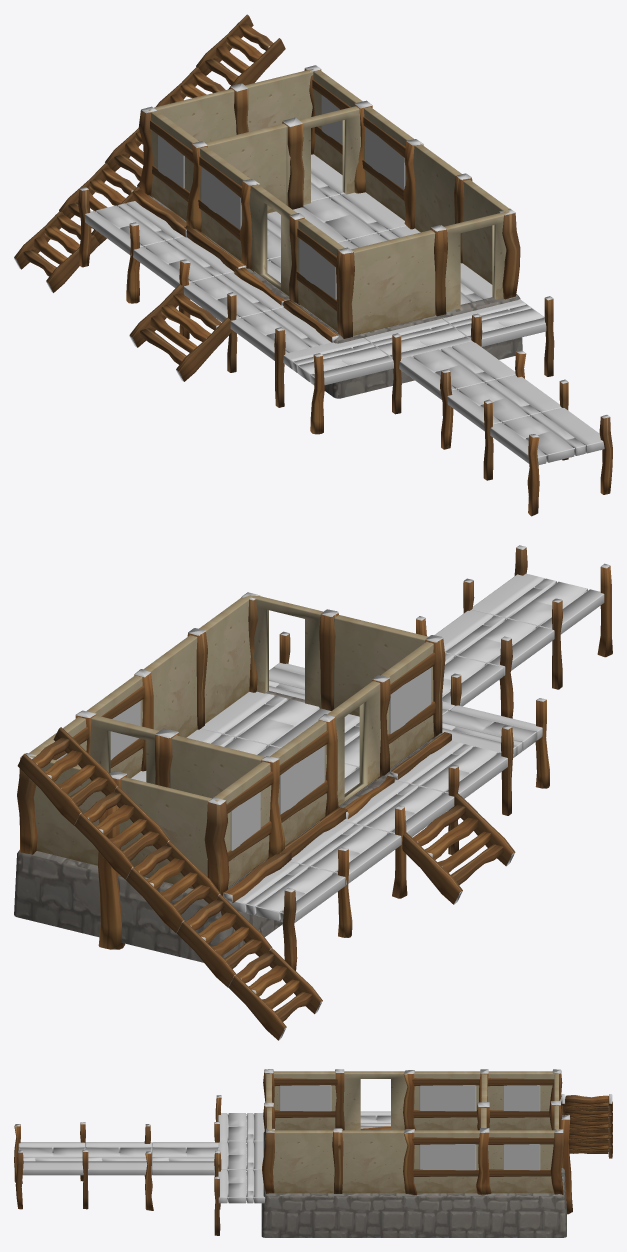
Rendered from FirstFloor.fbx.
3 views of the same model, one above another, from view 1: azimuth 30°, elevation 25°; view 2: azimuth 150°, elevation 25°; view 3: azimuth 270°, elevation 25° (orthographic). The views are drawn at different scales.
Parts seen in each view (by area): view 1: FirstFloor; view 2: FirstFloor; view 3: FirstFloor.
Part boxes in pixels (box(x1,y1,x2,y2)): FirstFloor: box(14, 14, 612, 516); FirstFloor: box(14, 545, 612, 1040); FirstFloor: box(14, 1069, 612, 1237).
Size of the model in its own units: 9.23 by 5.97 by 22.11.
